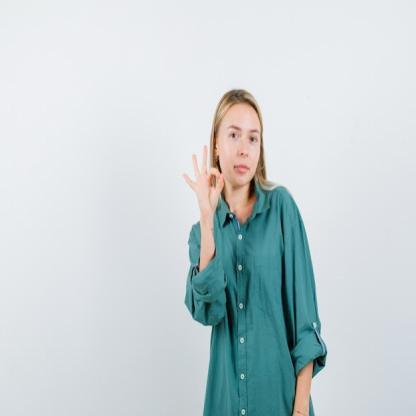ok: (182, 140, 226, 216)
